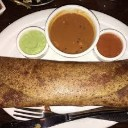dosa: (1, 54, 128, 110)
